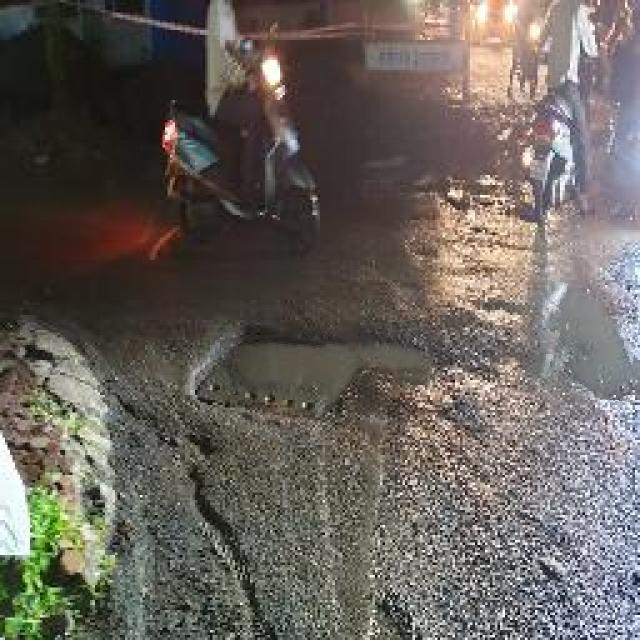puddle: (222, 325, 434, 391), (540, 284, 640, 400)
